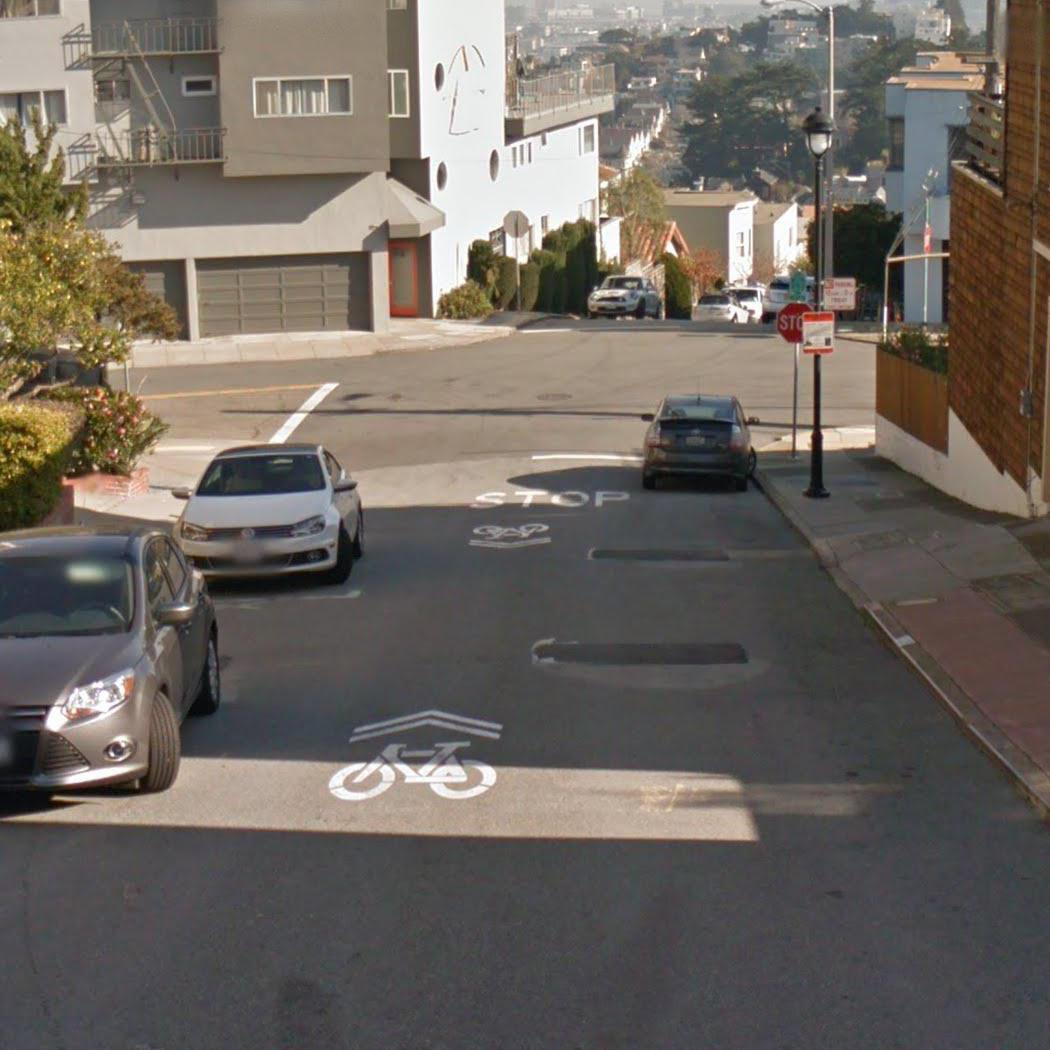No Parking: (819, 276, 860, 316)
